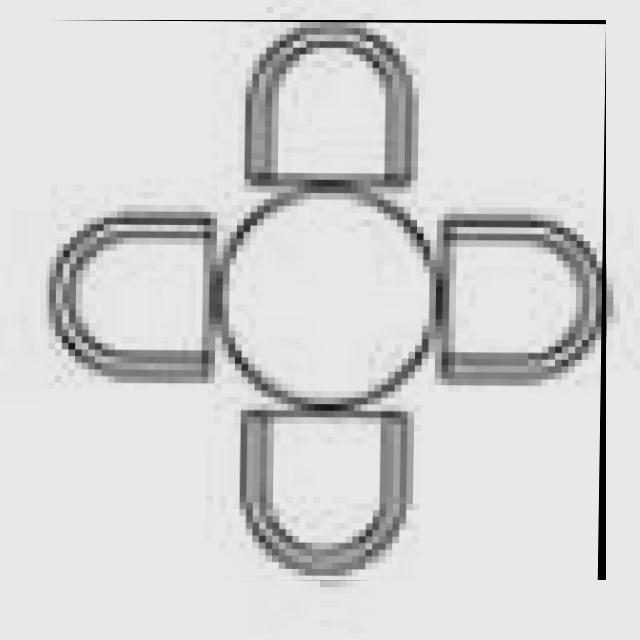table: (46, 20, 606, 580)
